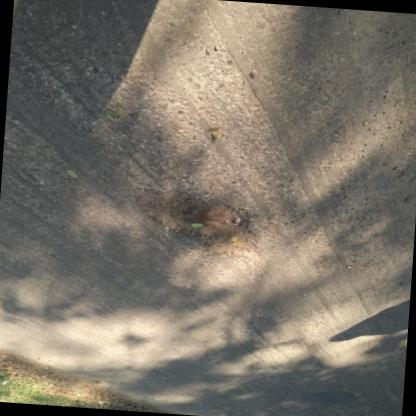pothole: (129, 184, 263, 262)
